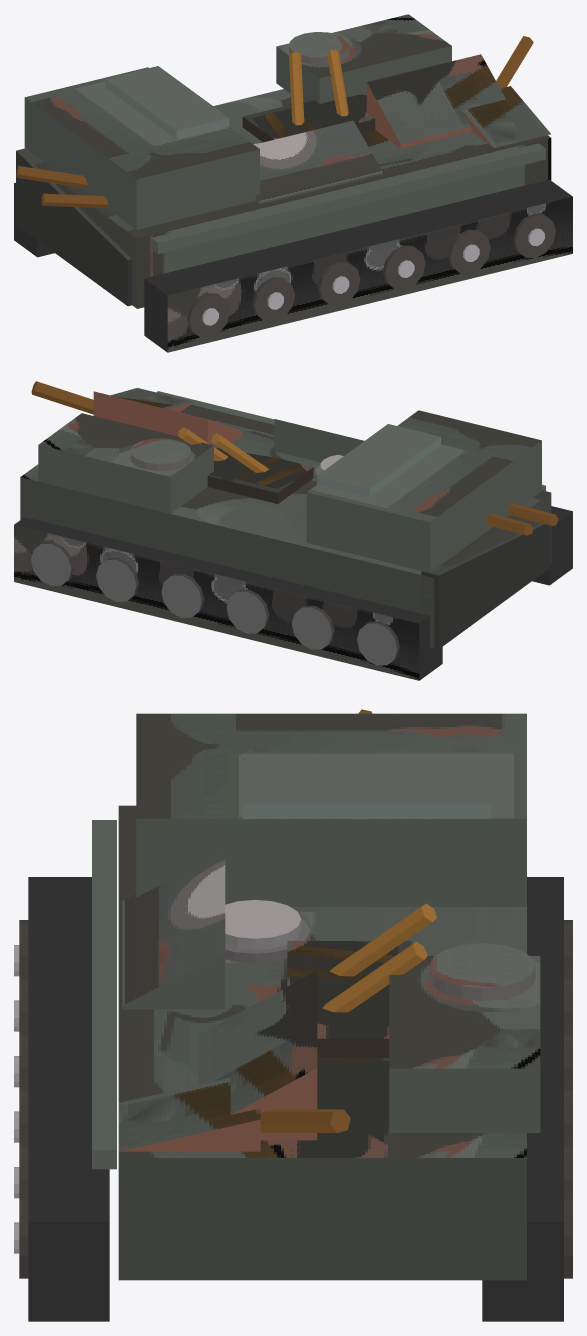
The model's file is Building_AncientAPC.glb.
3 views of the same model, one above another, from view 1: azimuth 30°, elevation 25°; view 2: azimuth 150°, elevation 25°; view 3: azimuth 270°, elevation 25° (orthographic). The views are drawn at different scales.
Visible parts, largest first — view 1: AncientAPC; view 2: AncientAPC; view 3: AncientAPC.
Boxes of the visible parts, x1,y1,x2,y2 form: AncientAPC: [14, 14, 572, 352]; AncientAPC: [14, 381, 572, 680]; AncientAPC: [14, 709, 572, 1321].
Size of the model in its own units: 5.76 by 1.73 by 3.15.
1 material, 1 textured.
